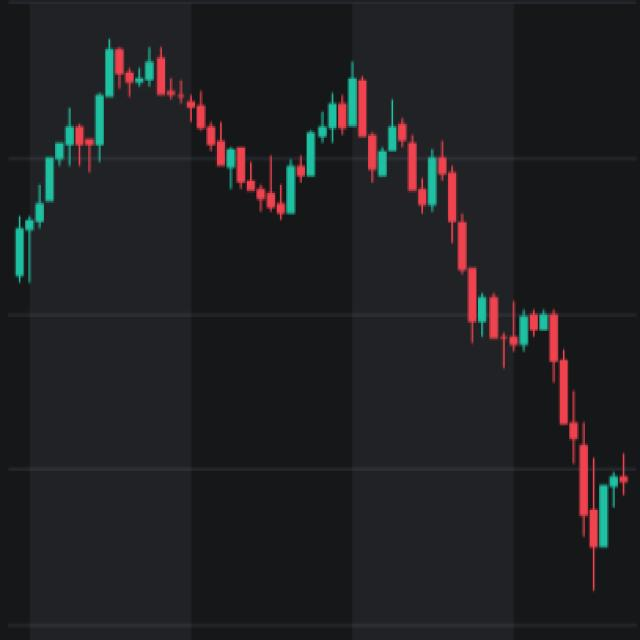Support-breakout: (286, 66, 596, 580)
